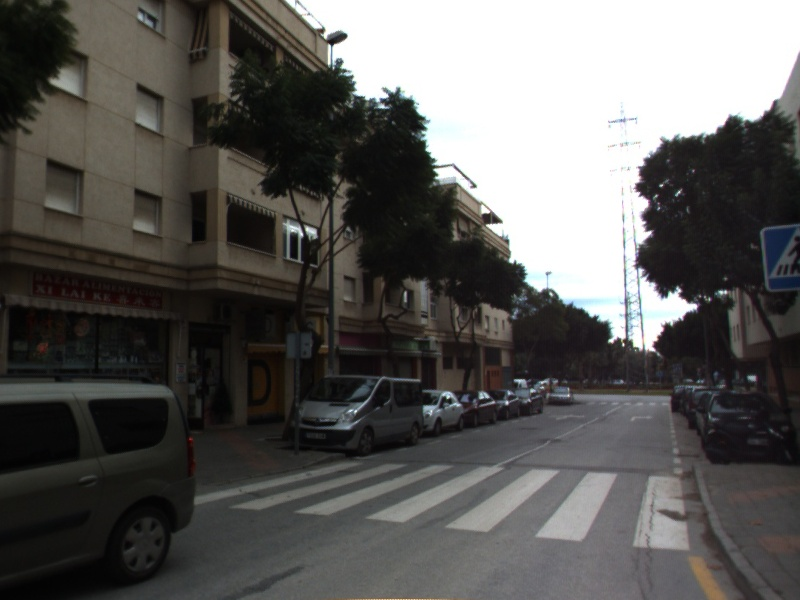RIGHT: (628, 413, 655, 423)
